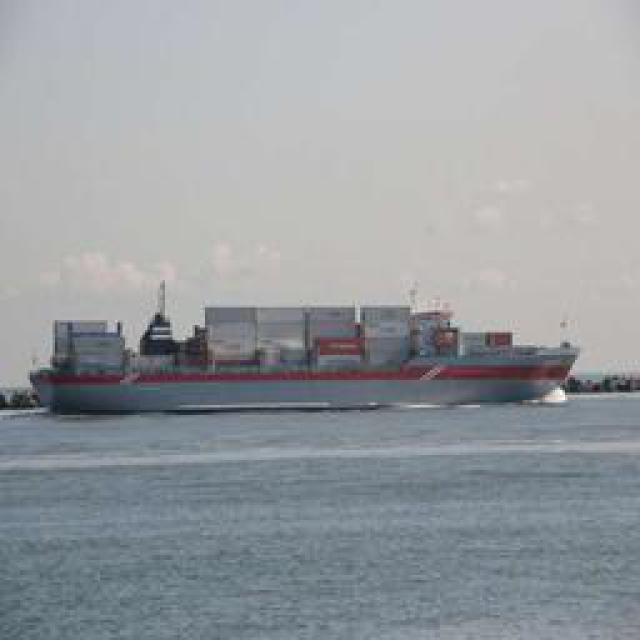Ship: (16, 314, 574, 417)
